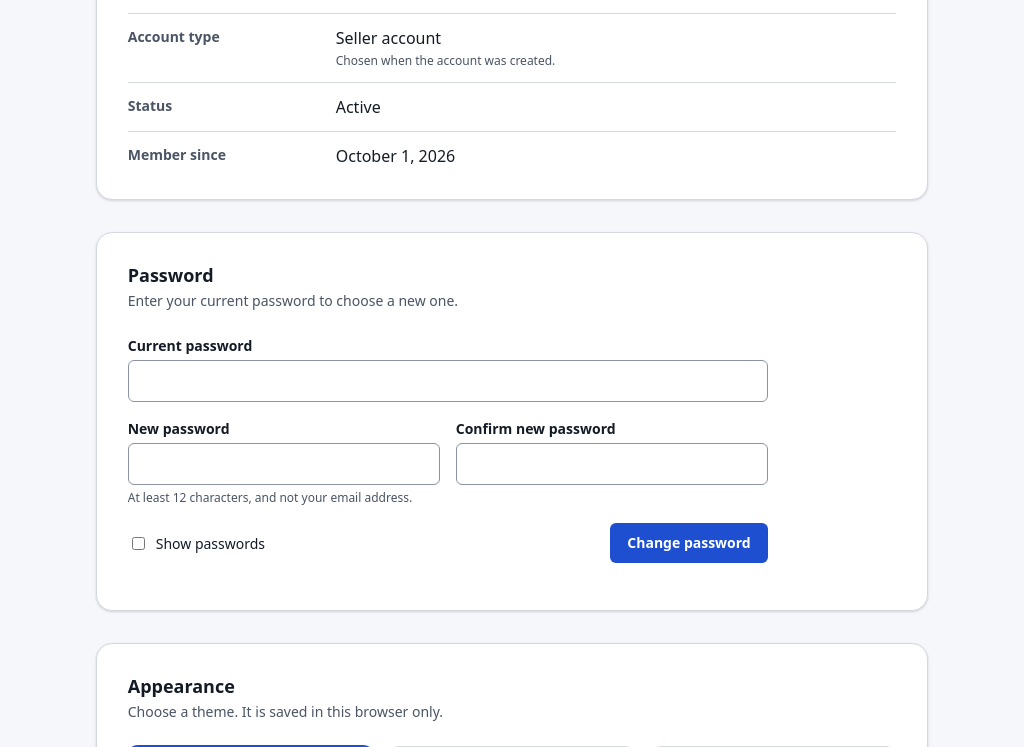
it: AccountComponent › shows a wrong current password next to that field
(page scrolled)
Type "not-my-password" into the password field with id "account-current-password" at (448, 381), box [128,360,768,402]
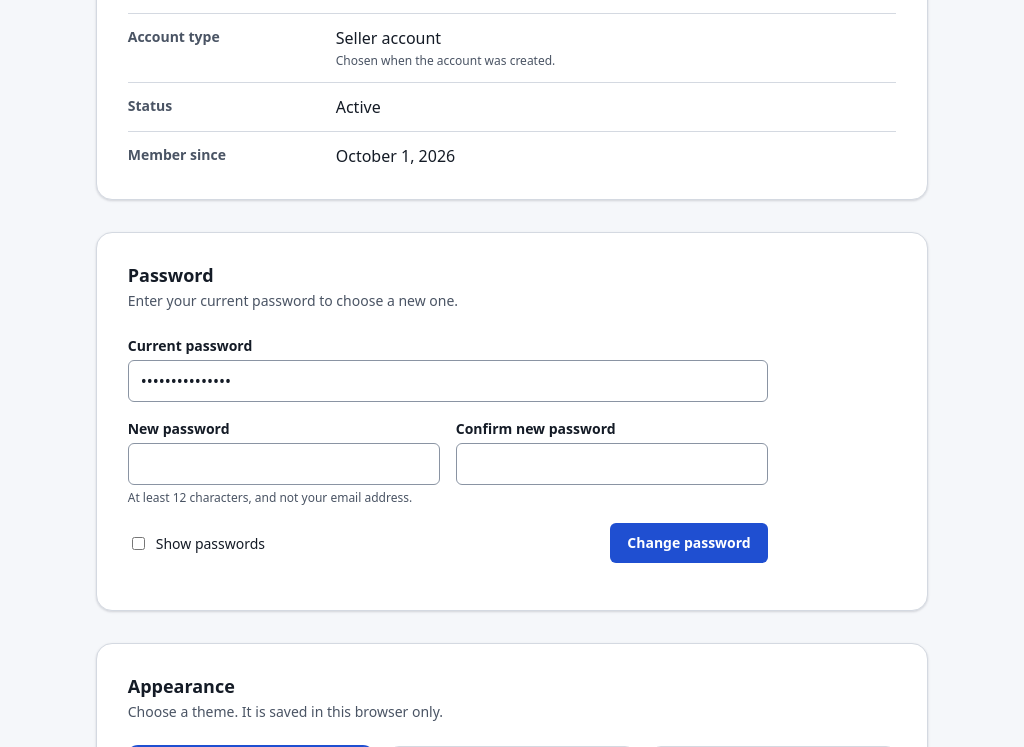
Type "a brand new passphrase" into the password field labelled "New password" at (284, 464), box [128,443,440,485]
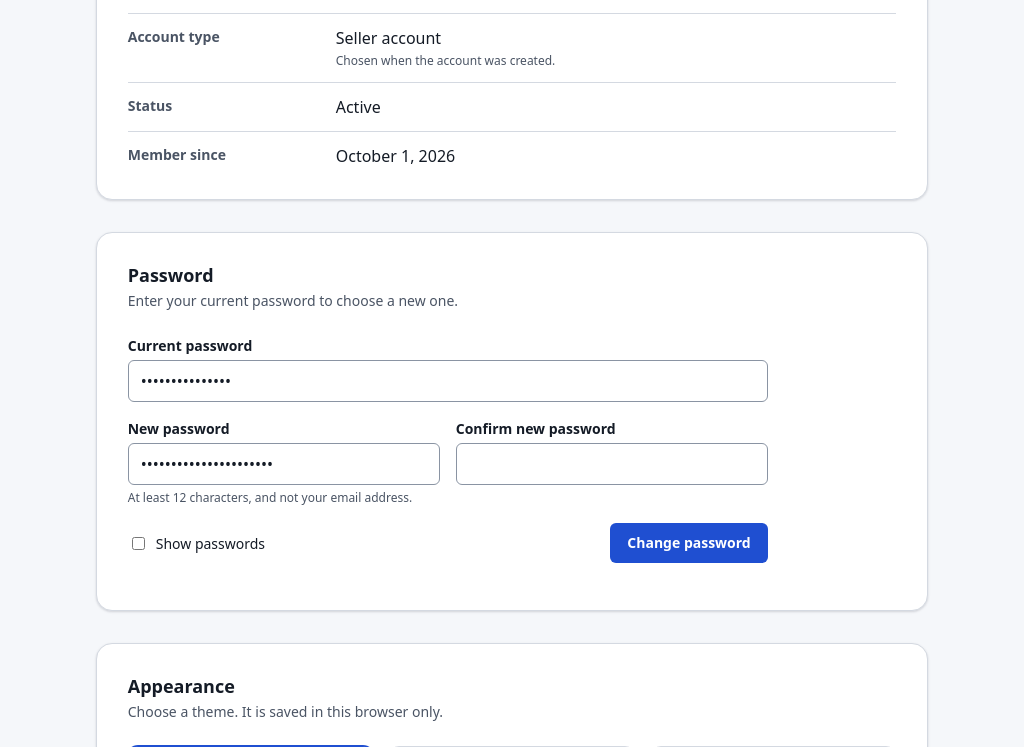
Type "a brand new passphrase" into the password field labelled "Confirm new password" at (612, 464), box [456,443,768,485]
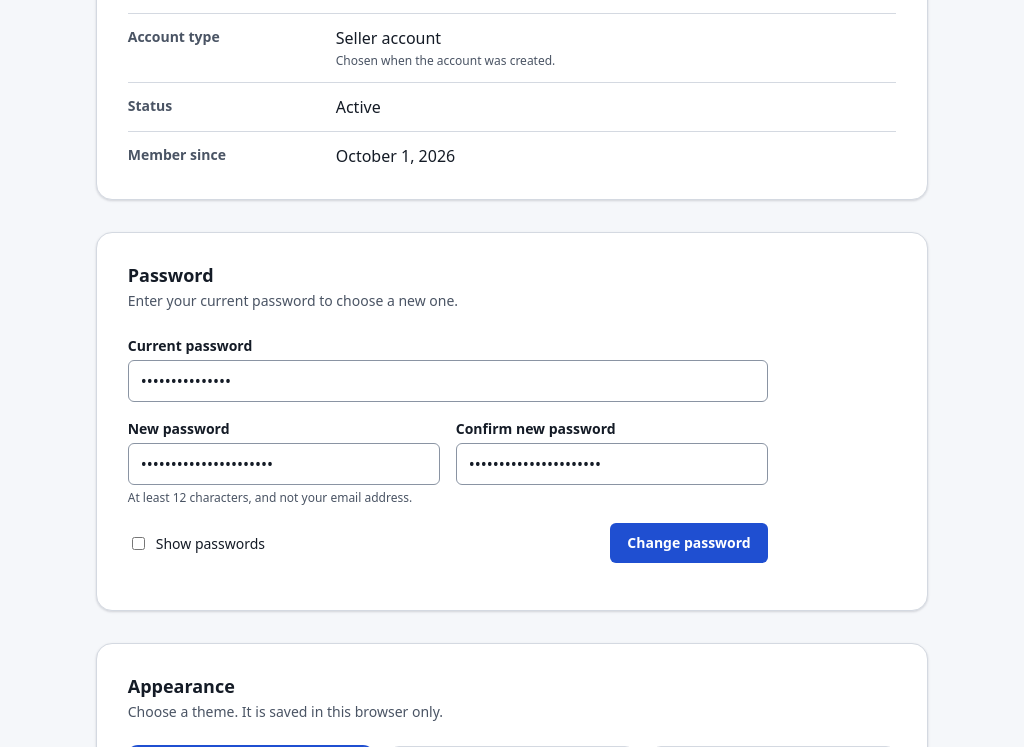
Click the button "Change password" at (689, 543), box [610,523,768,563]
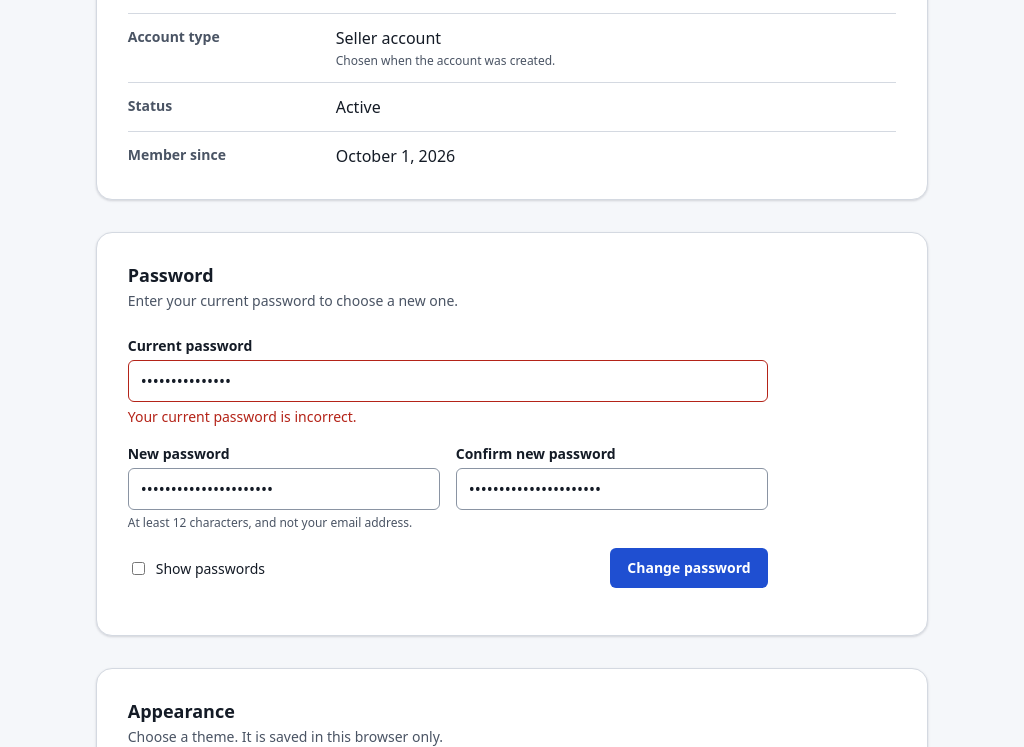
Expected: the text with id "account-current-password-error" reads "Your current password is incorrect.", [128,407,357,426]
